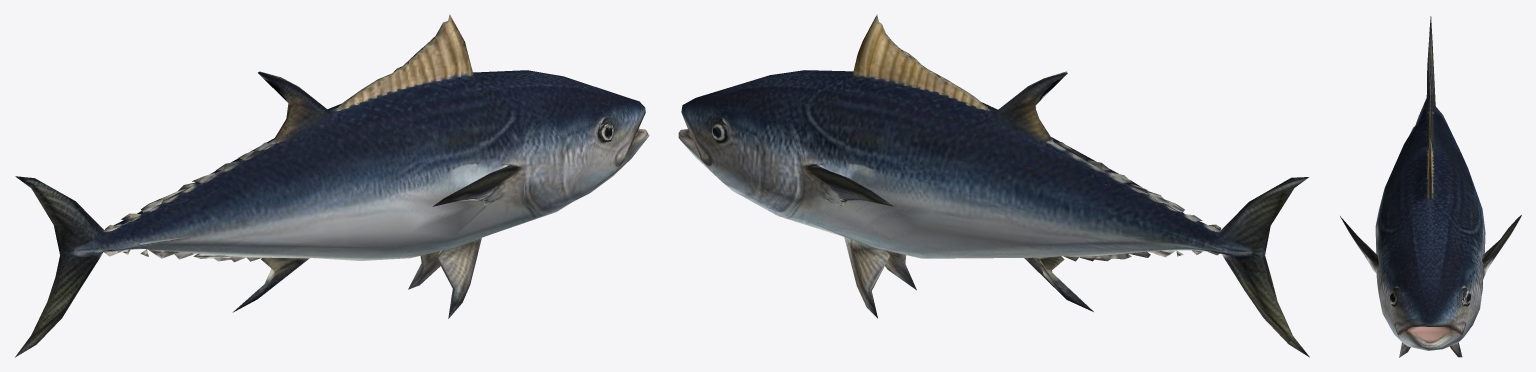
The model's file is pescado.fbx.
The picture shows the model from 3 angles, left to right: view 1: azimuth 30°, elevation 25°; view 2: azimuth 150°, elevation 25°; view 3: azimuth 270°, elevation 25°; orthographic projection. The views are drawn at different scales.
Visible parts, largest first — view 1: pescado; view 2: pescado; view 3: pescado.
Boxes of the visible parts, x1,y1,x2,y2 form: pescado: (15, 14, 649, 357); pescado: (678, 14, 1309, 357); pescado: (1340, 16, 1521, 357).
Bounding box in the file's own units: 1.2 × 0.5184 × 0.3757.
1 material, 1 textured.
